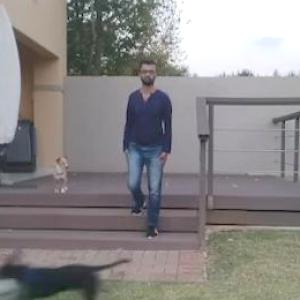follow: (123, 59, 174, 269)
